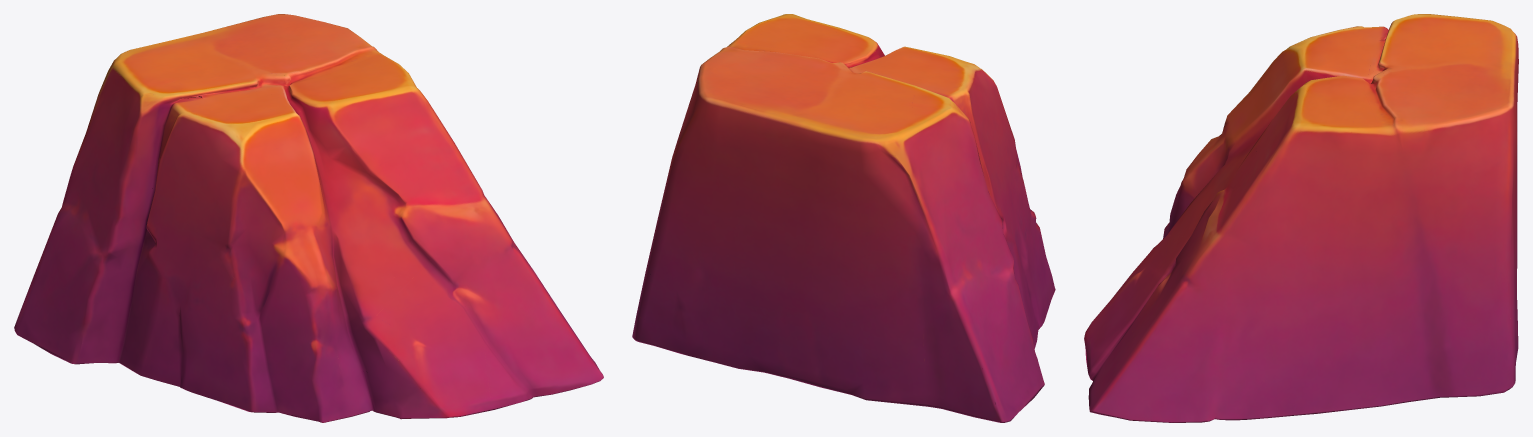
The model's file is Mountain_Asset_4.glb.
The picture shows the model from 3 angles, left to right: view 1: azimuth 30°, elevation 25°; view 2: azimuth 150°, elevation 25°; view 3: azimuth 270°, elevation 25°; orthographic projection. The views are drawn at different scales.
Parts seen in each view (by area): view 1: geometry_0; view 2: geometry_0; view 3: geometry_0.
Part boxes in pixels (left/top/right/bottom): geometry_0: left=14, top=14, right=603, bottom=422; geometry_0: left=632, top=14, right=1055, bottom=422; geometry_0: left=1084, top=14, right=1518, bottom=422.
Bounding box in the file's own units: 0.9536 × 0.5522 × 0.8623.
1 material, 1 textured.
